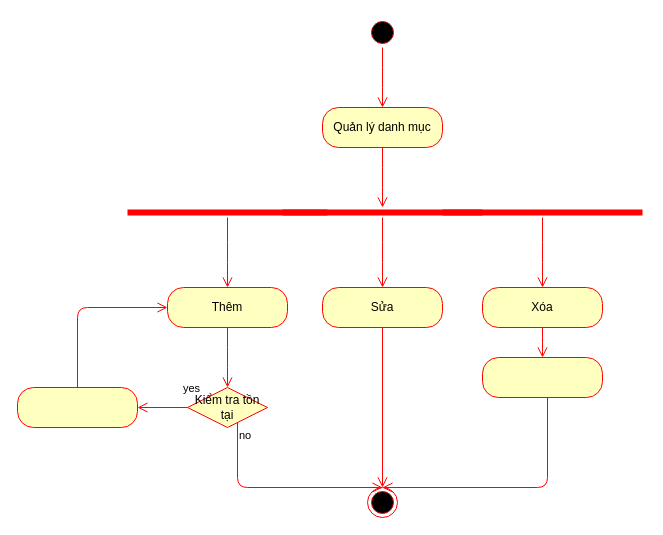
Image size: 663x535. Some labels were removed from this diagram. Here are the shapes that lost their labels. From the top down, the box of each, then its label:
(482, 356, 602, 398): Xóa các món thuộc danh mục
(16, 386, 138, 428): Nhập lại
